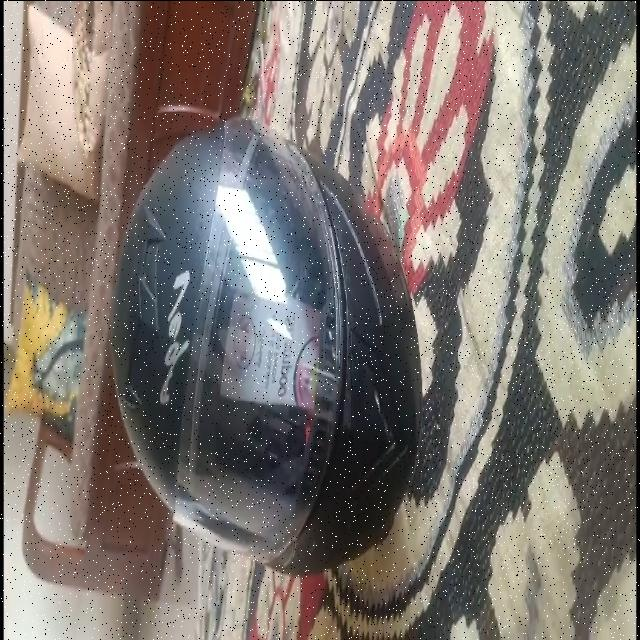Helmet: (111, 117, 420, 574)
